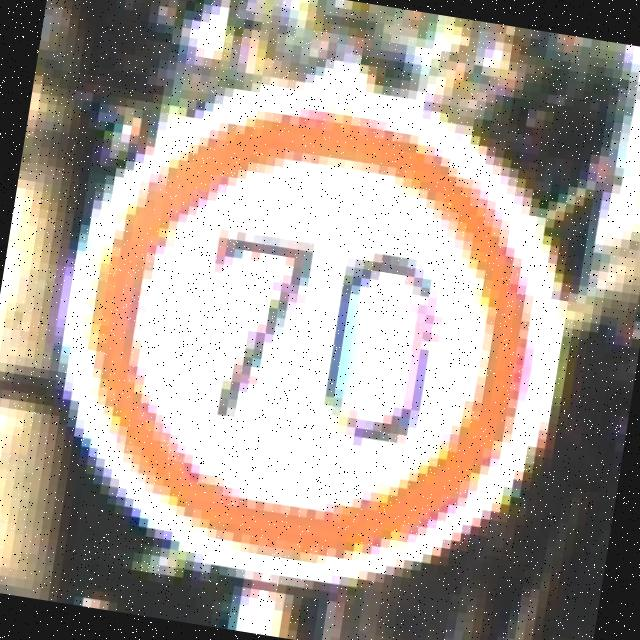Ograniczenie predkosci do 70: (59, 79, 560, 588)
